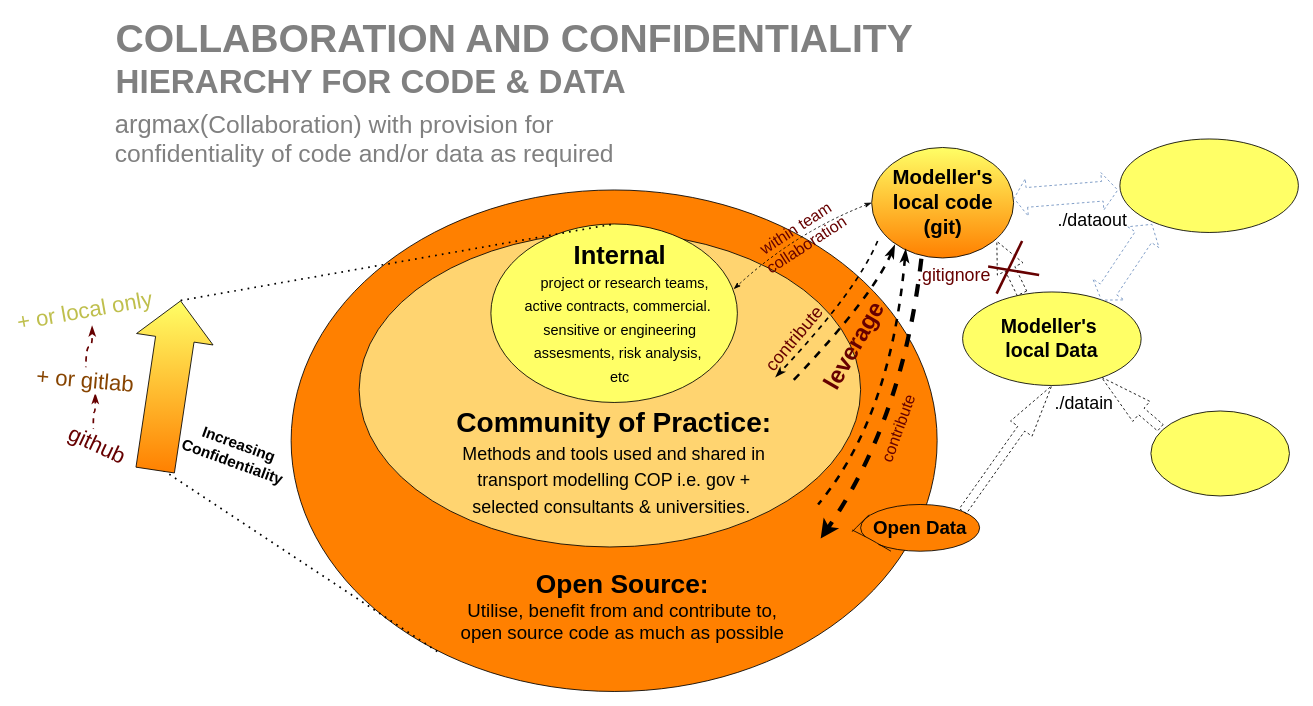
This 1313x706 diagram has some shape labels left out. Each missing label, with the box of its shape:
Licenced Data: (1150, 410, 1289, 496)
Modeller's Computation: (1119, 138, 1298, 232)
